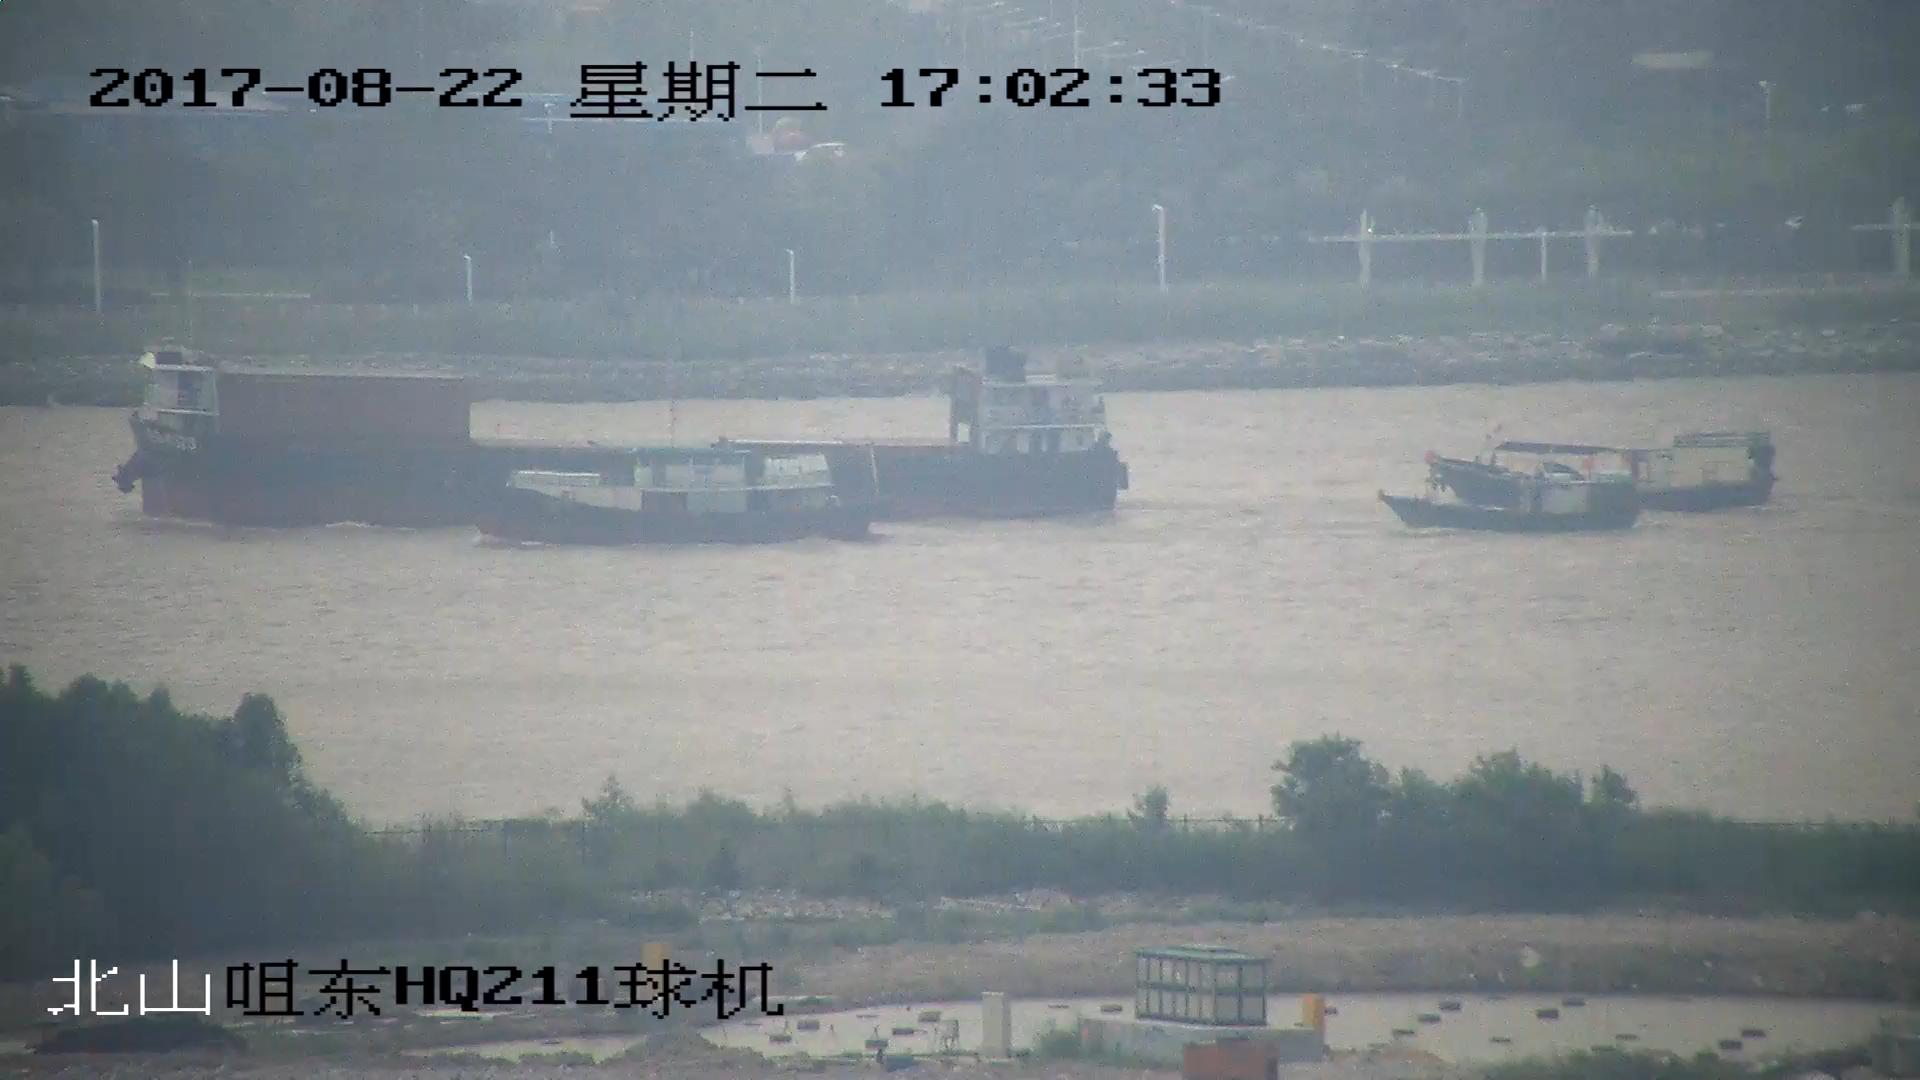fishing boat: (478, 444, 880, 548), (1427, 420, 1778, 505), (1380, 463, 1635, 531)
general cargo ship: (110, 327, 1129, 520)
